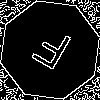F: (25, 25, 75, 80)
